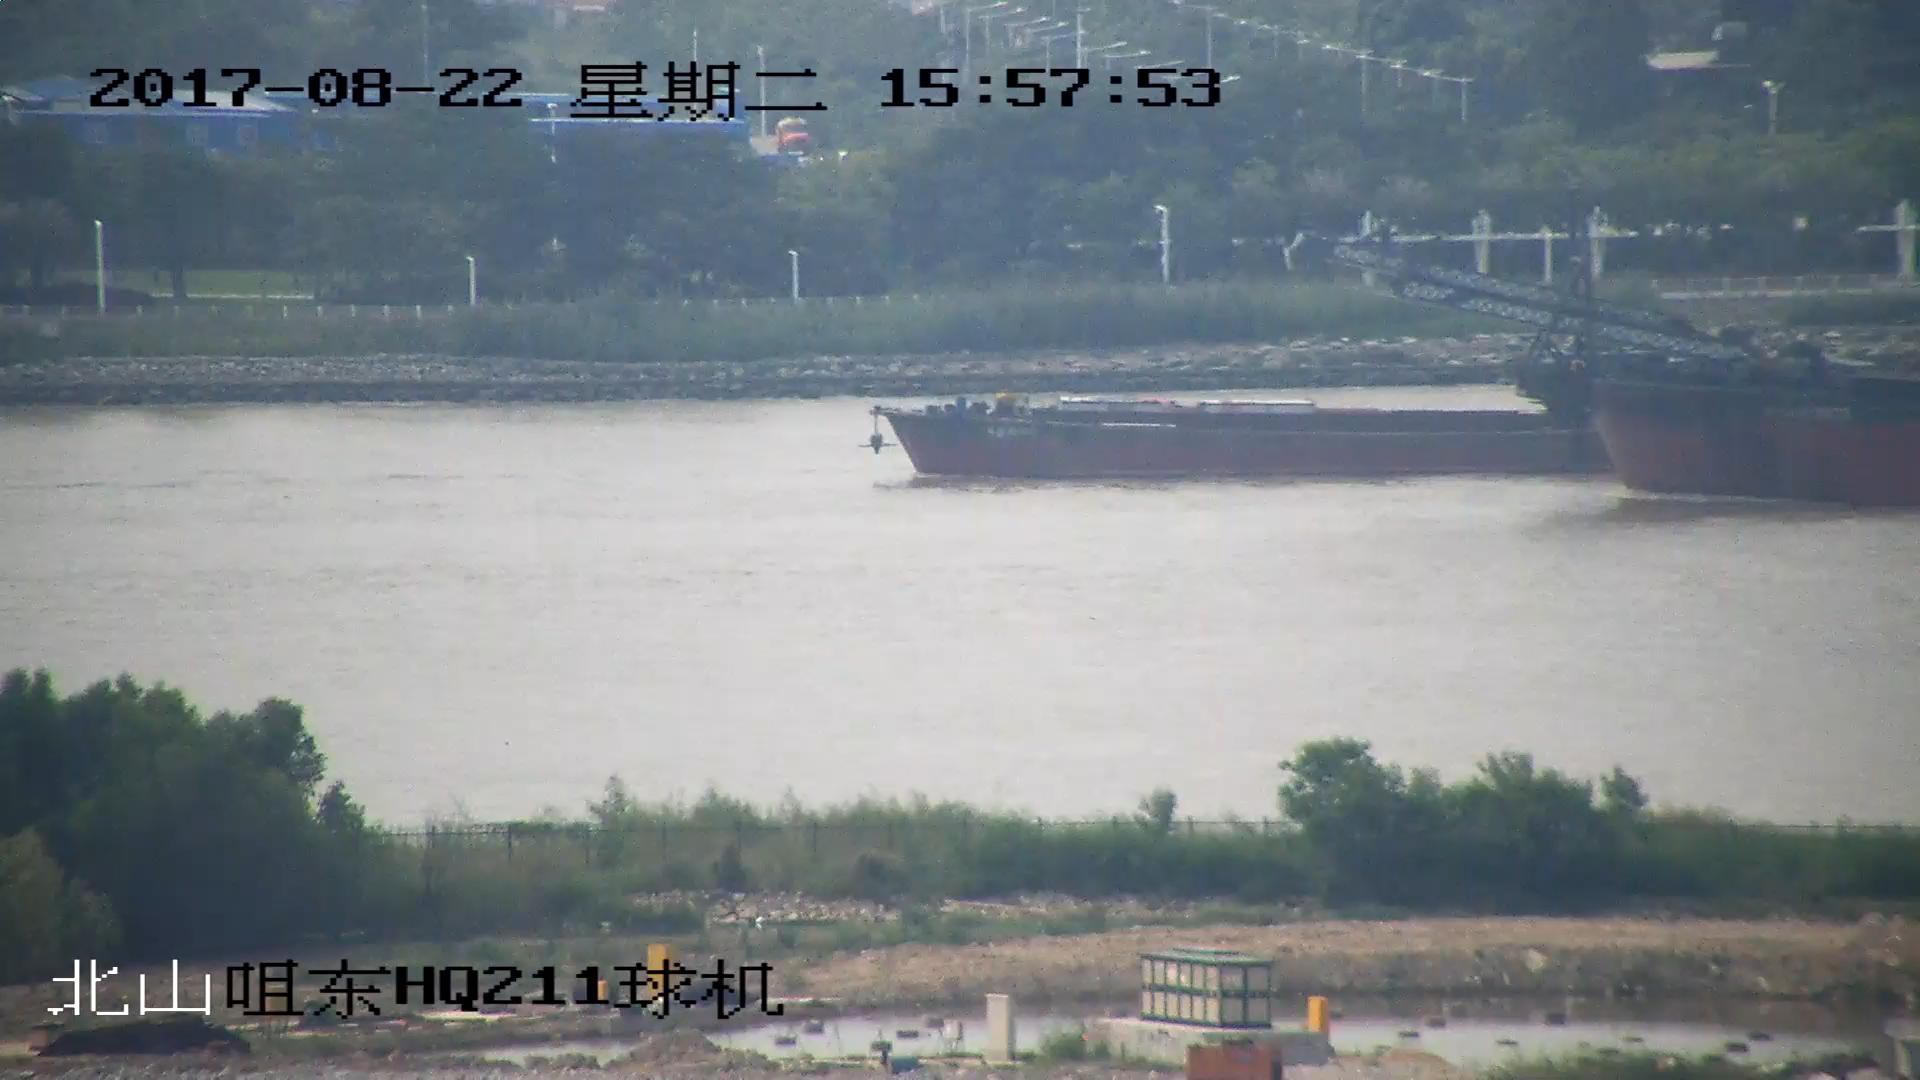bulk cargo carrier: (1291, 225, 1920, 506), (872, 350, 1689, 478)
